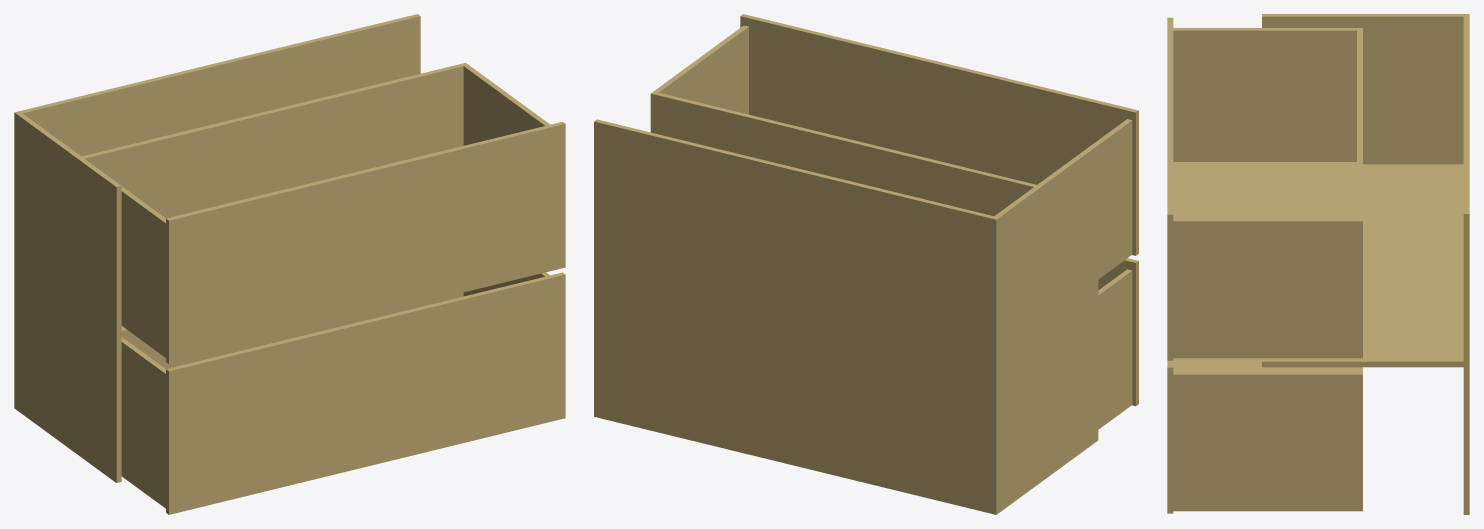
File: meuble_69130f85a8283.glb
3 views of the same model, side by side, from view 1: azimuth 30°, elevation 25°; view 2: azimuth 150°, elevation 25°; view 3: azimuth 270°, elevation 25° (orthographic).
Visible parts, largest first — view 1: world; view 2: world; view 3: world.
Boxes of the visible parts, bbox=[...] form: world: bbox=[14, 14, 565, 514]; world: bbox=[594, 14, 1138, 514]; world: bbox=[1167, 14, 1469, 514].
Size of the model in its own units: 1.5 by 1.05 by 0.958.
